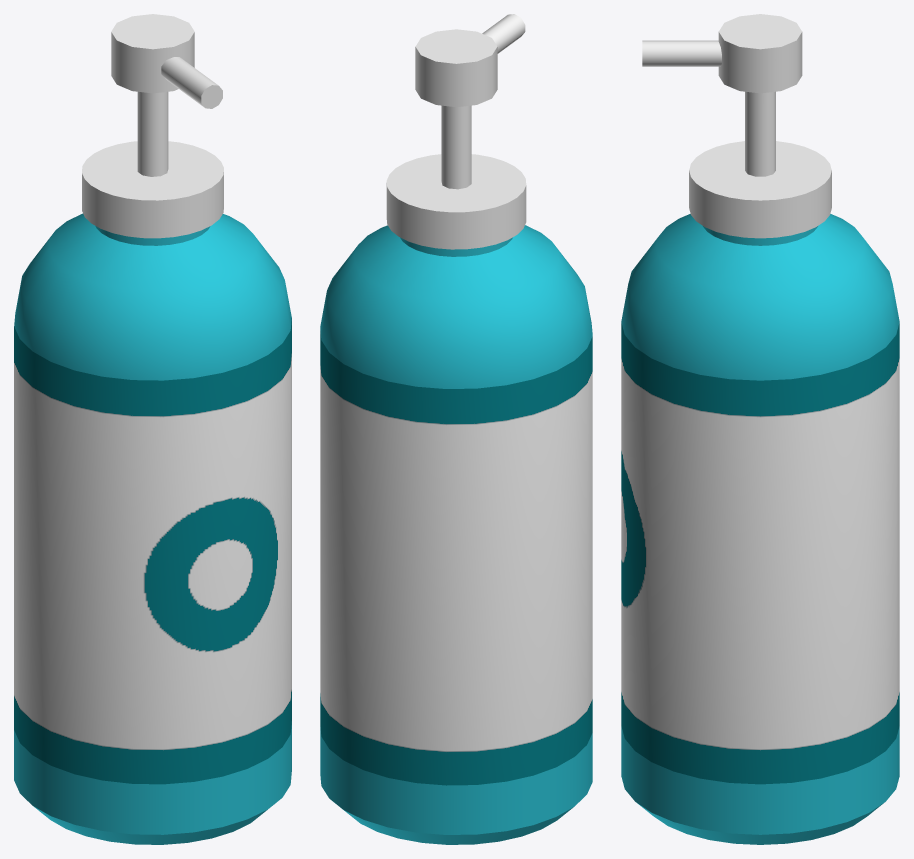
Rendered from Shower_Gel.fbx.
3 renders of one model, left to right at view 1: azimuth 30°, elevation 25°; view 2: azimuth 150°, elevation 25°; view 3: azimuth 270°, elevation 25°, orthographic.
Parts seen in each view (by area): view 1: Shower_Gel; view 2: Shower_Gel; view 3: Shower_Gel.
Part boxes in pixels (box(x1,y1,x2,y2)): Shower_Gel: box(14, 14, 291, 844); Shower_Gel: box(320, 14, 592, 844); Shower_Gel: box(621, 14, 899, 844).
Bounding box in the file's own units: 0.08 × 0.242 × 0.08.
Materials: 3 (1 with a texture image).
